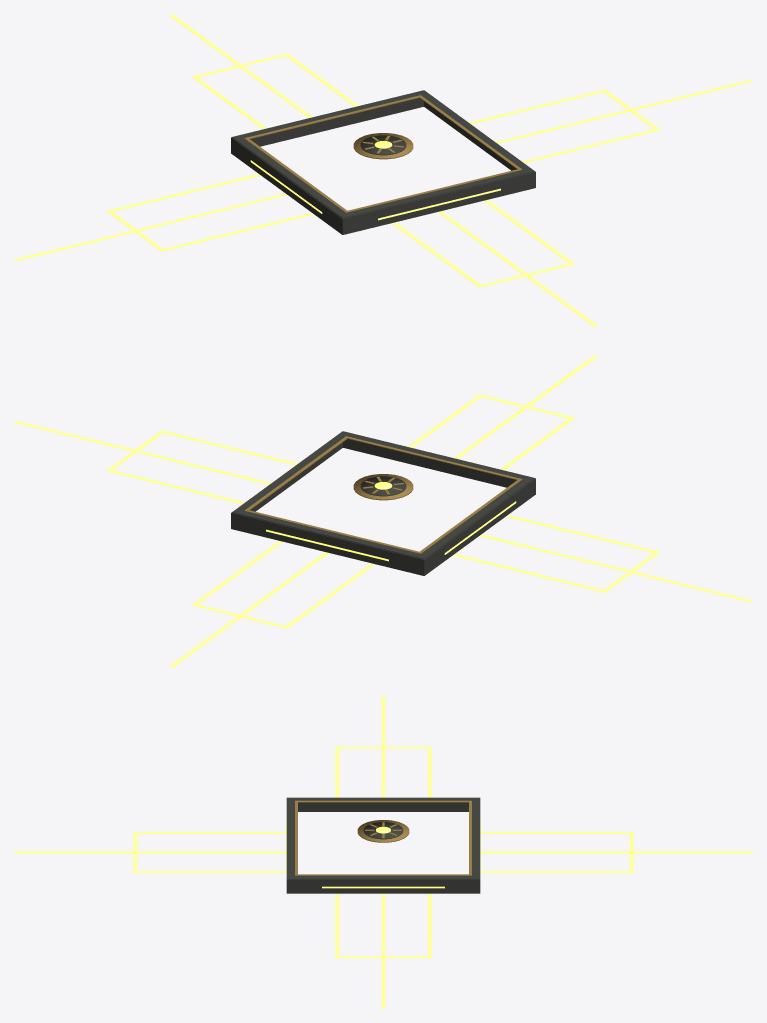
The model's file is b2_seal_dais.glb.
The picture shows the model from 3 angles, top to bottom: view 1: azimuth 30°, elevation 25°; view 2: azimuth 150°, elevation 25°; view 3: azimuth 270°, elevation 25°; orthographic projection. The views are drawn at different scales.
Visible parts, largest first — view 1: b2_seal_dais; view 2: b2_seal_dais; view 3: b2_seal_dais.
Part boxes in pixels (x1,y1,x2,y2): b2_seal_dais: (14,14,752,326); b2_seal_dais: (14,355,752,667); b2_seal_dais: (14,696,752,1008).
Bounding box in the file's own units: 19.2 × 0.652 × 19.2.
